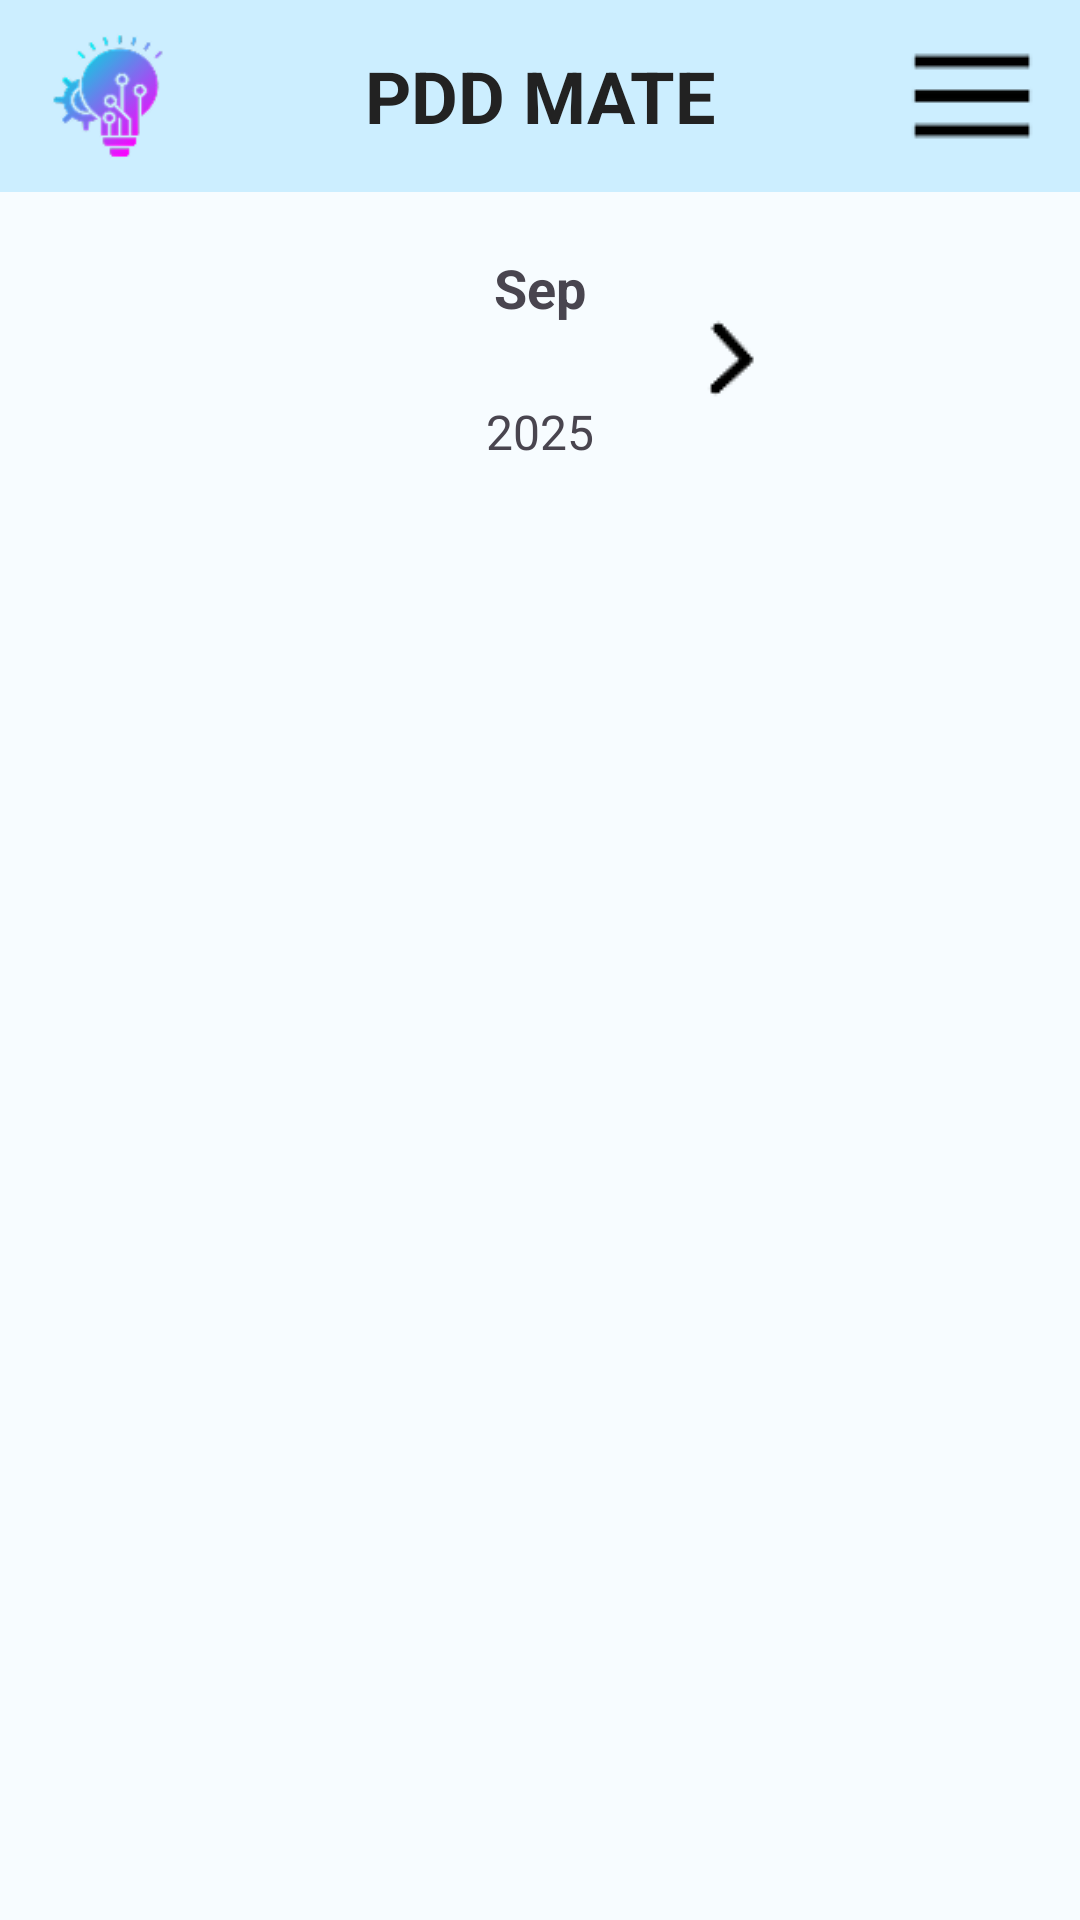

Icon click points for this 1080x1920 phone screenshot, format (x,y):
Next month: (732,358)
Open menu: (972,96)
